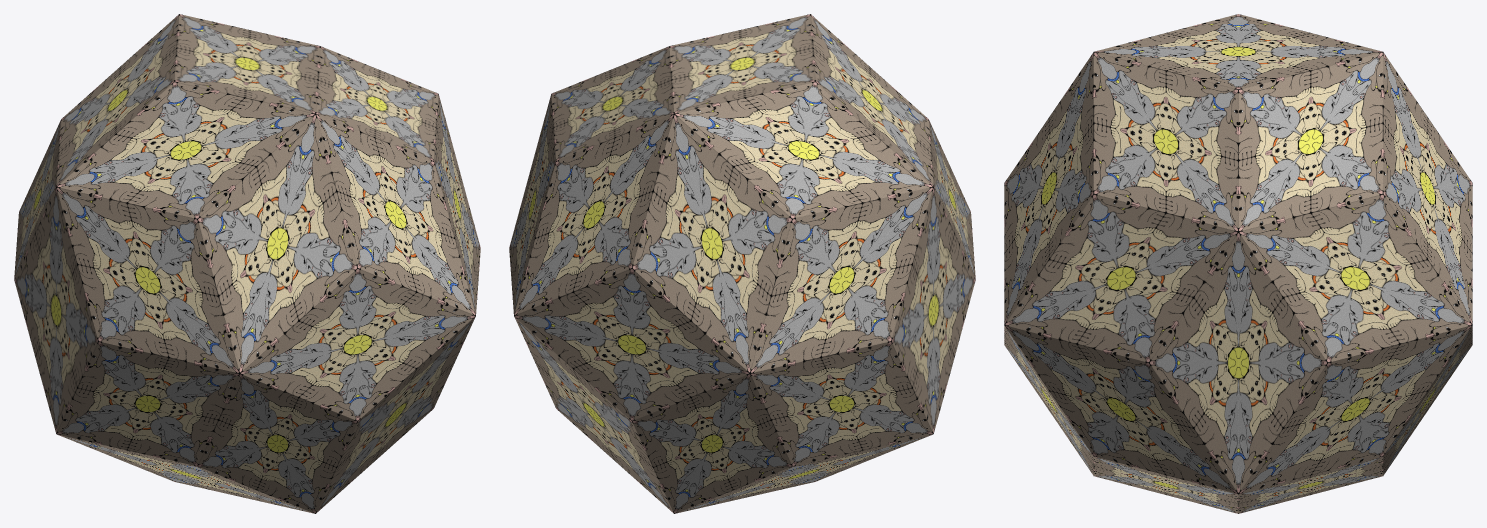
File: RhombicTriacontahedron26.obj
3 renders of one model, left to right at view 1: azimuth 30°, elevation 25°; view 2: azimuth 150°, elevation 25°; view 3: azimuth 270°, elevation 25°, orthographic. The views are drawn at different scales.
Size of the model in its own units: 2.93 by 2.93 by 2.93.
1 material, 1 textured.
